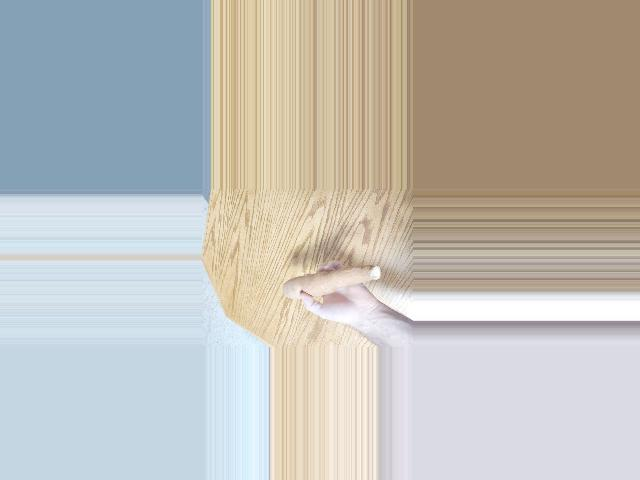sweet_potato: (277, 267, 384, 292)
